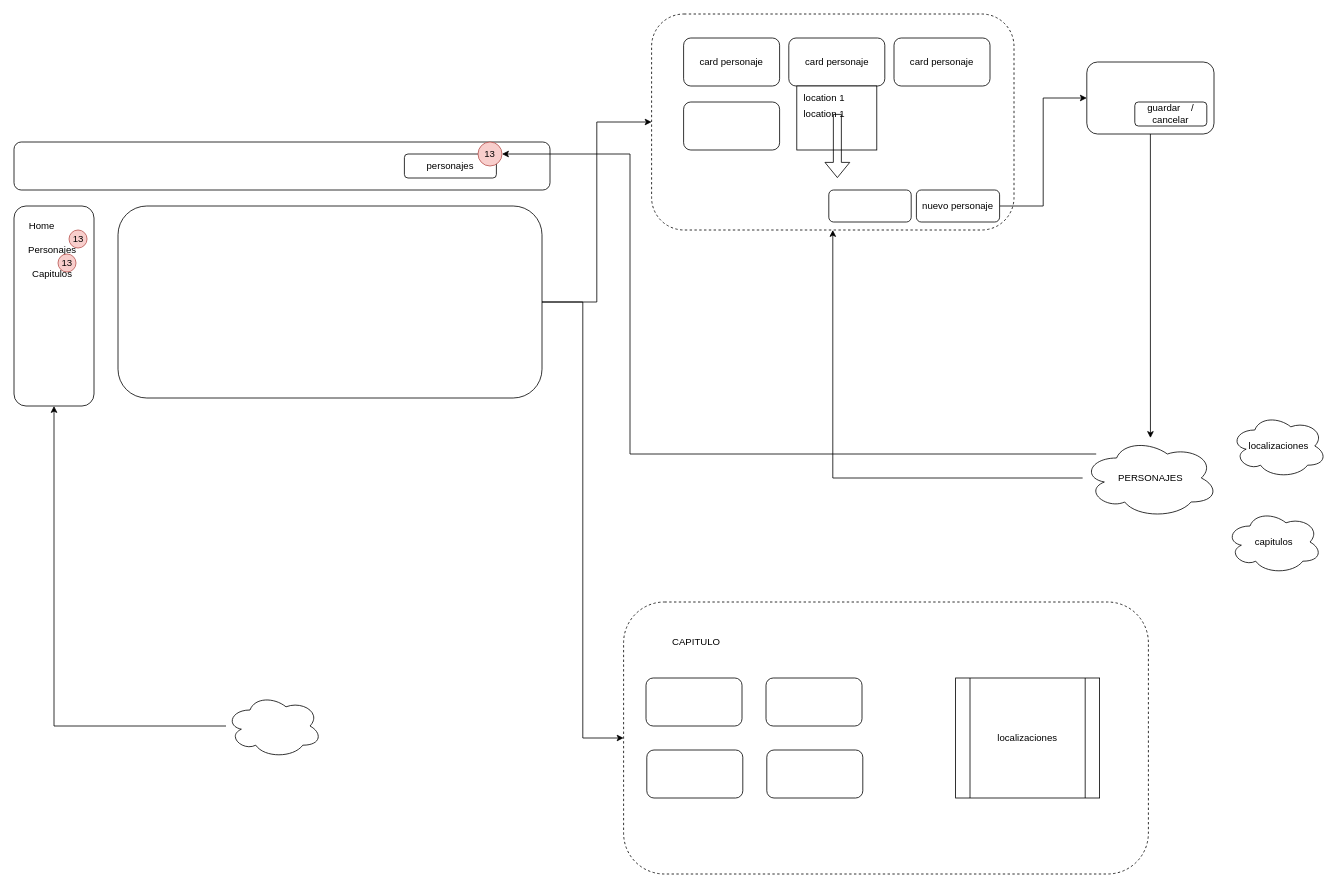
The diagram is 1341 pixels wide and 888 high, and some of its shapes have lost their labels. Each missing label, with the box of its shape:
FORM: (1086, 61, 1214, 134)
HEADER: (13, 141, 550, 190)
PAGINAS: (117, 205, 542, 398)
router service: (225, 693, 322, 758)
siguiente: (828, 189, 911, 222)
